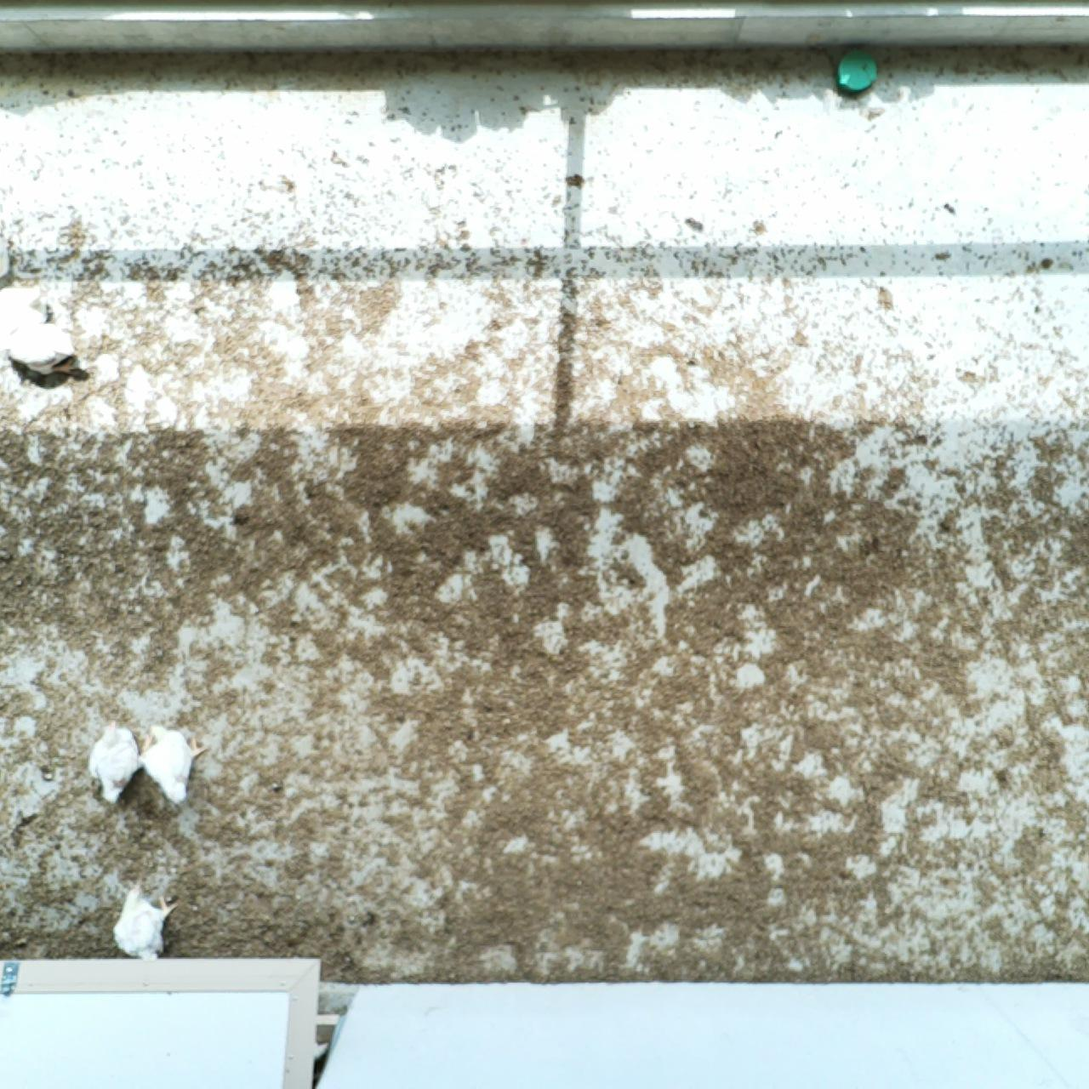chicken: (114, 880, 181, 966), (138, 720, 206, 804), (86, 718, 143, 803)
